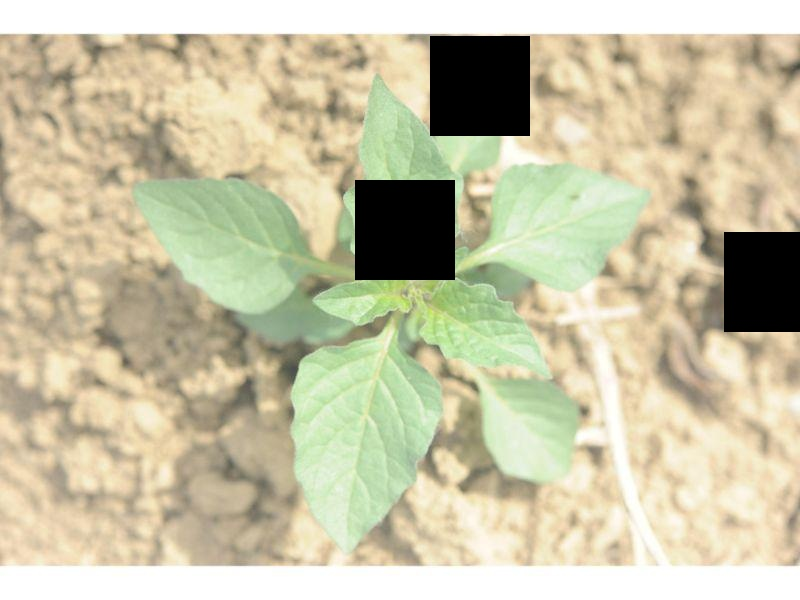nightshade: (130, 68, 652, 549)
